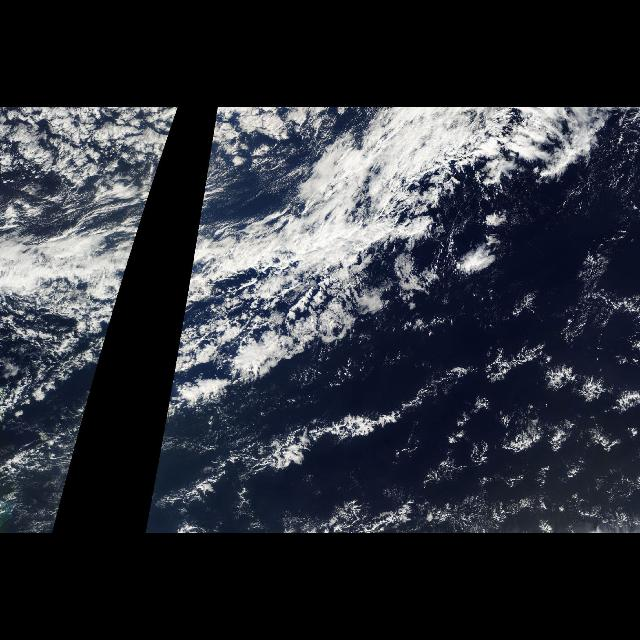Fish: (226, 393, 444, 477)
Flower: (489, 349, 639, 533)
